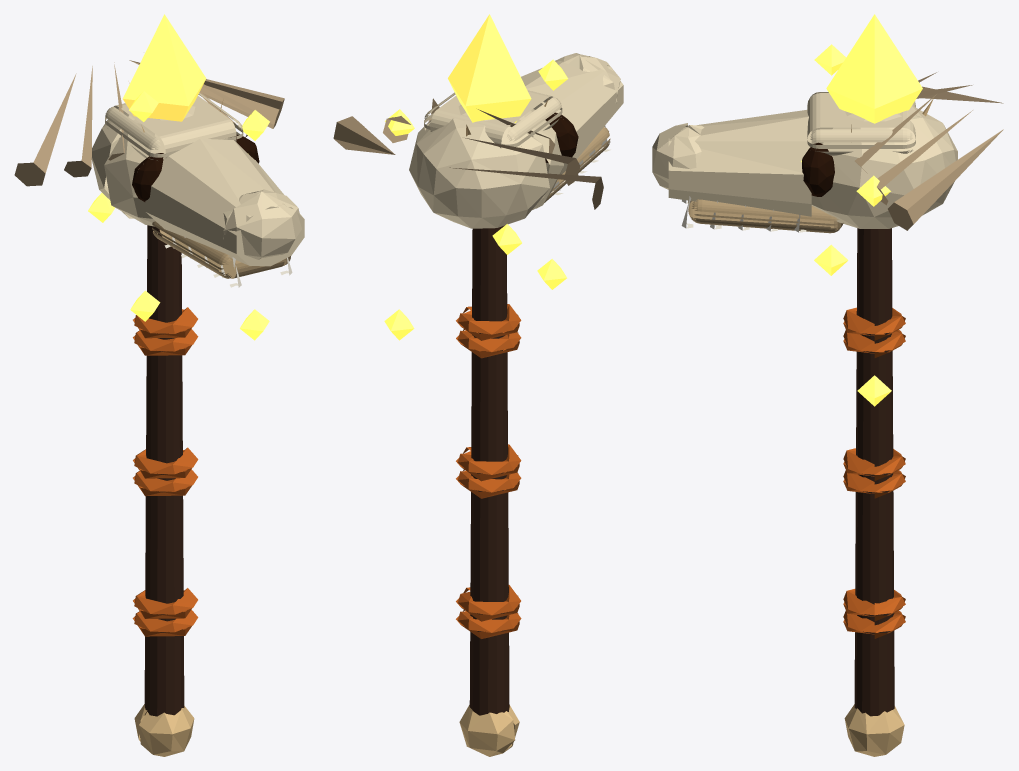
The model's file is dragoneye_wand.glb.
3 renders of one model, left to right at view 1: azimuth 30°, elevation 25°; view 2: azimuth 150°, elevation 25°; view 3: azimuth 270°, elevation 25°, orthographic.
Parts seen in each view (by area): view 1: dragoneye_wand; view 2: dragoneye_wand; view 3: dragoneye_wand.
Boxes of the visible parts, box(x1,y1,x2,y2) form: dragoneye_wand: box(14, 14, 304, 756); dragoneye_wand: box(333, 14, 623, 756); dragoneye_wand: box(652, 14, 1003, 756).
Bounding box in the file's own units: 0.3663 × 0.9734 × 0.4186.
